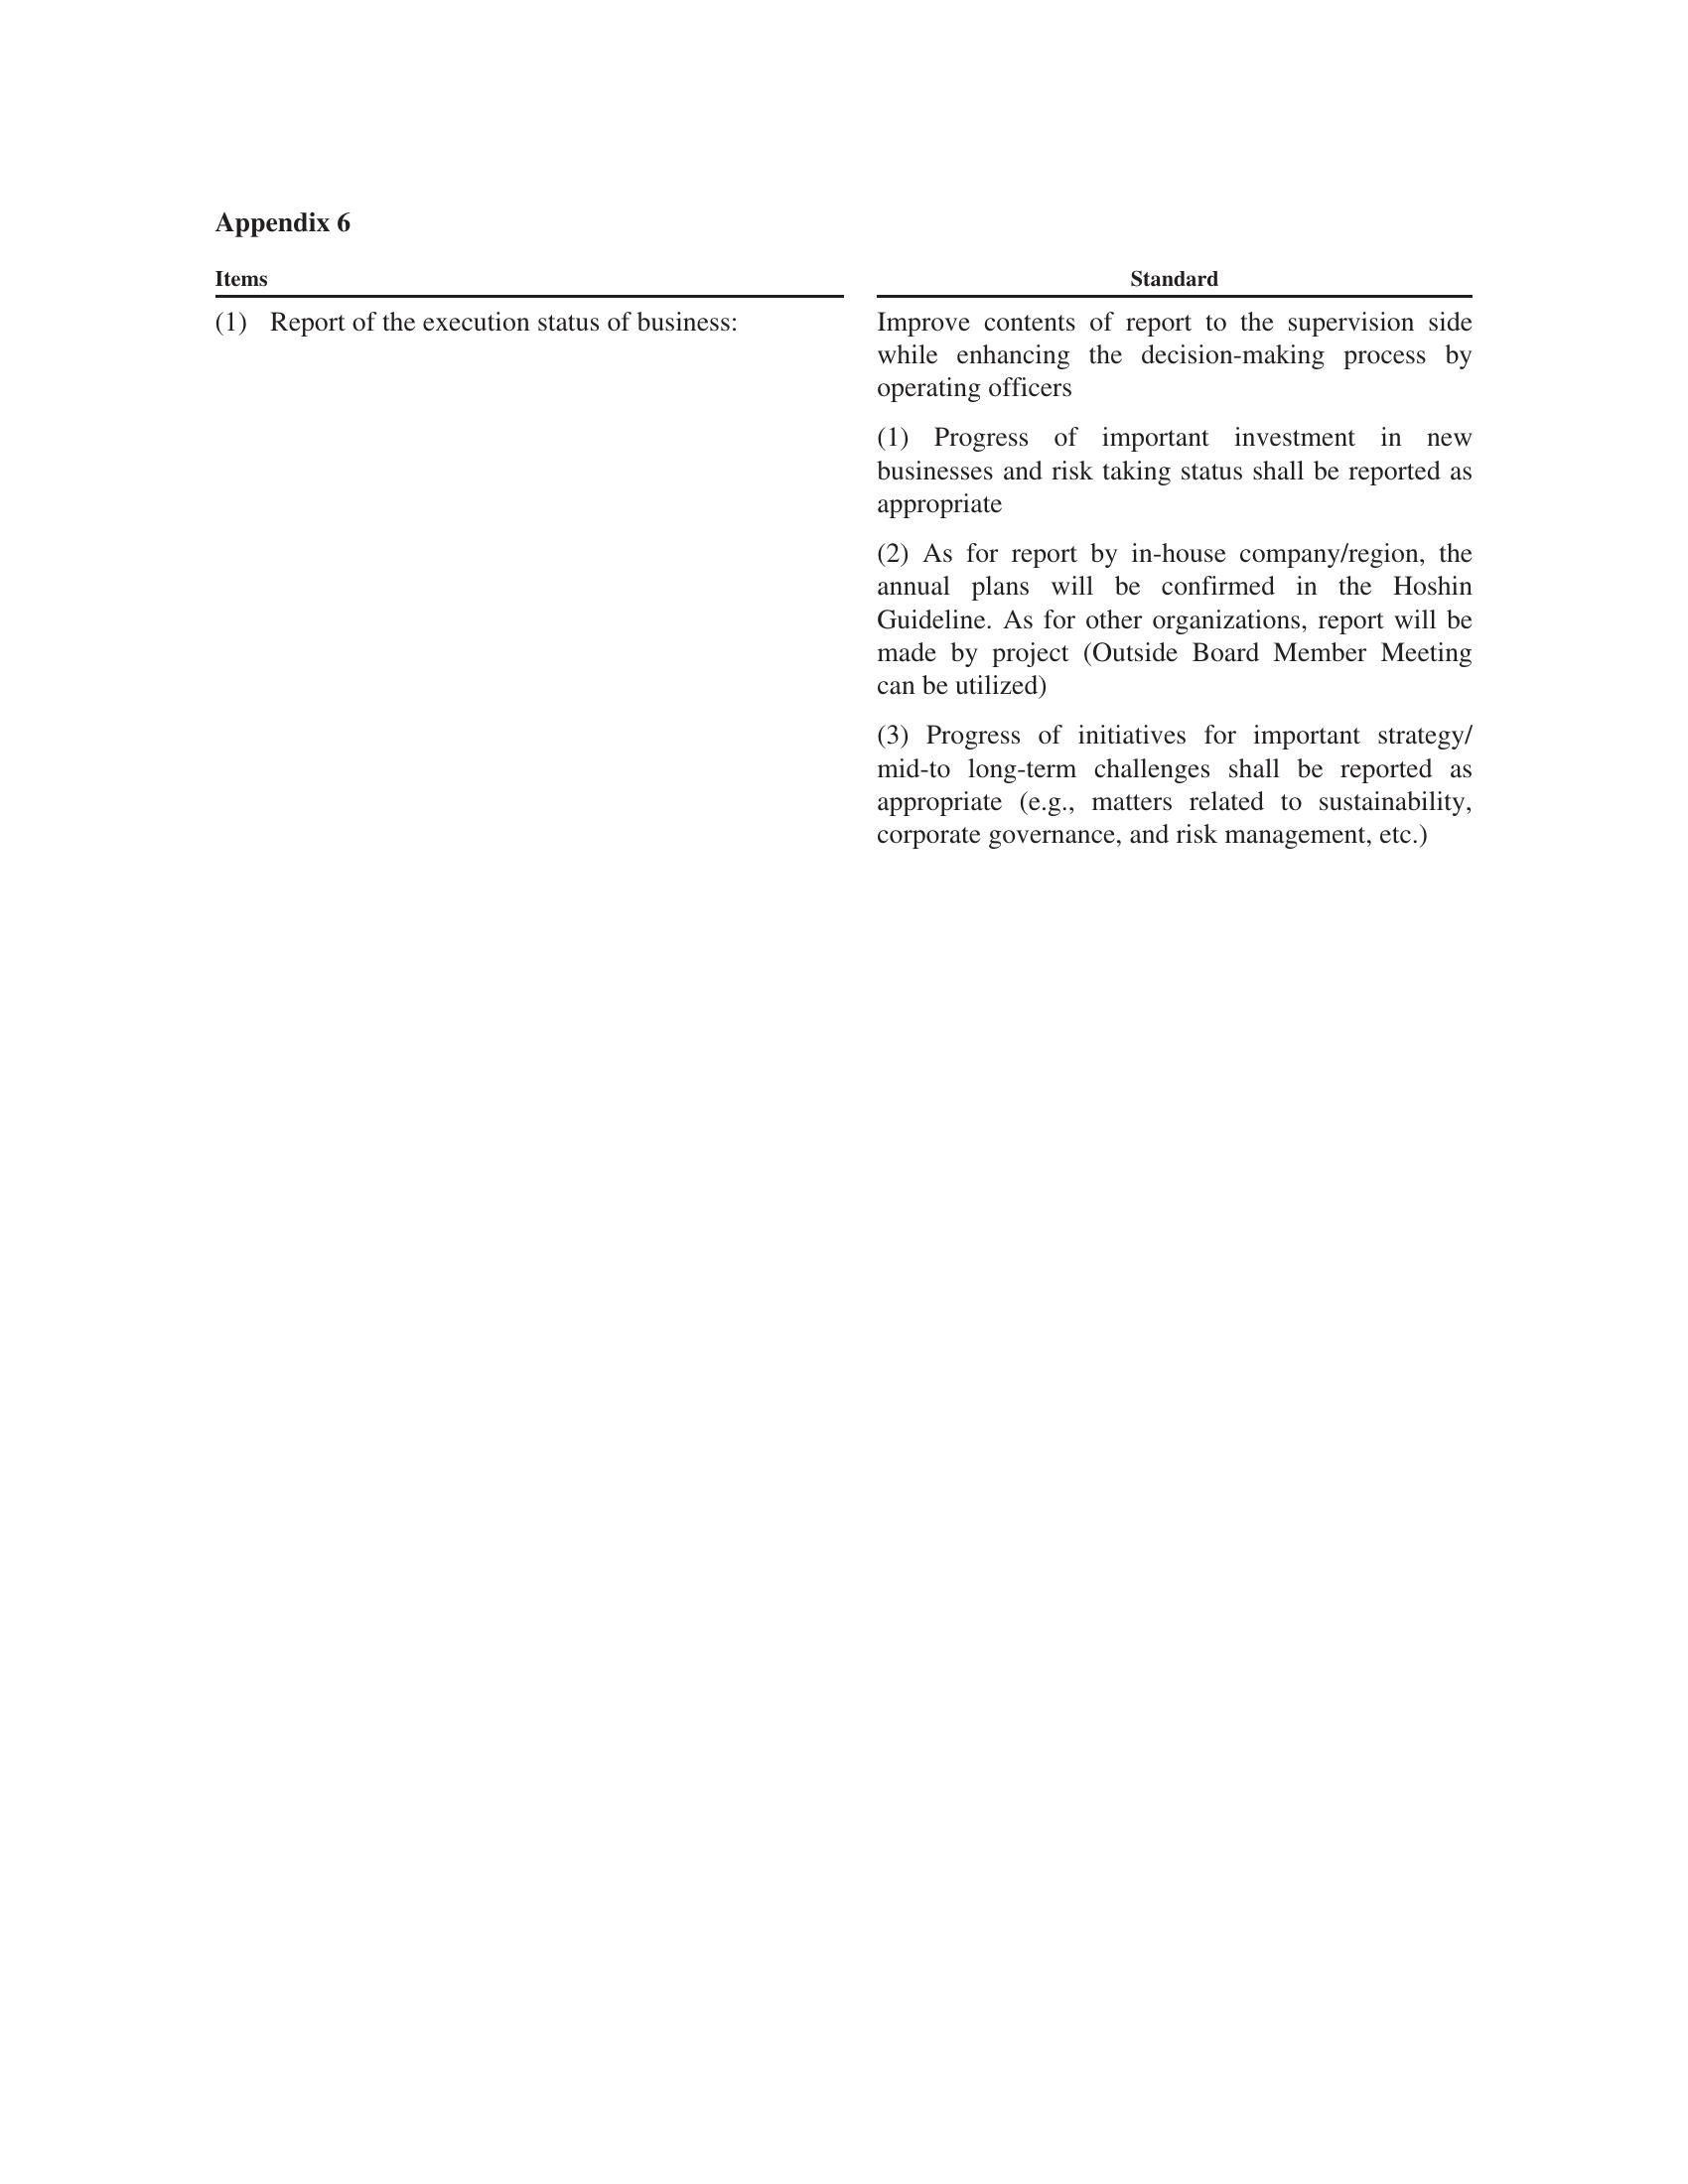Footer: (0, 1993, 1688, 2184)
Header: (0, 0, 1688, 175)
Table: (112, 252, 1475, 856)
